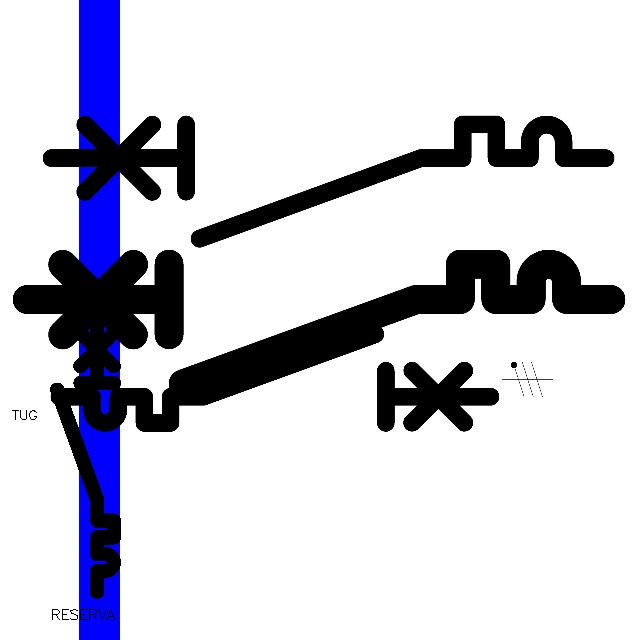interruptor_termomagnetico: (12, 249, 626, 399), (37, 110, 620, 253), (48, 323, 502, 434), (50, 308, 121, 598)
